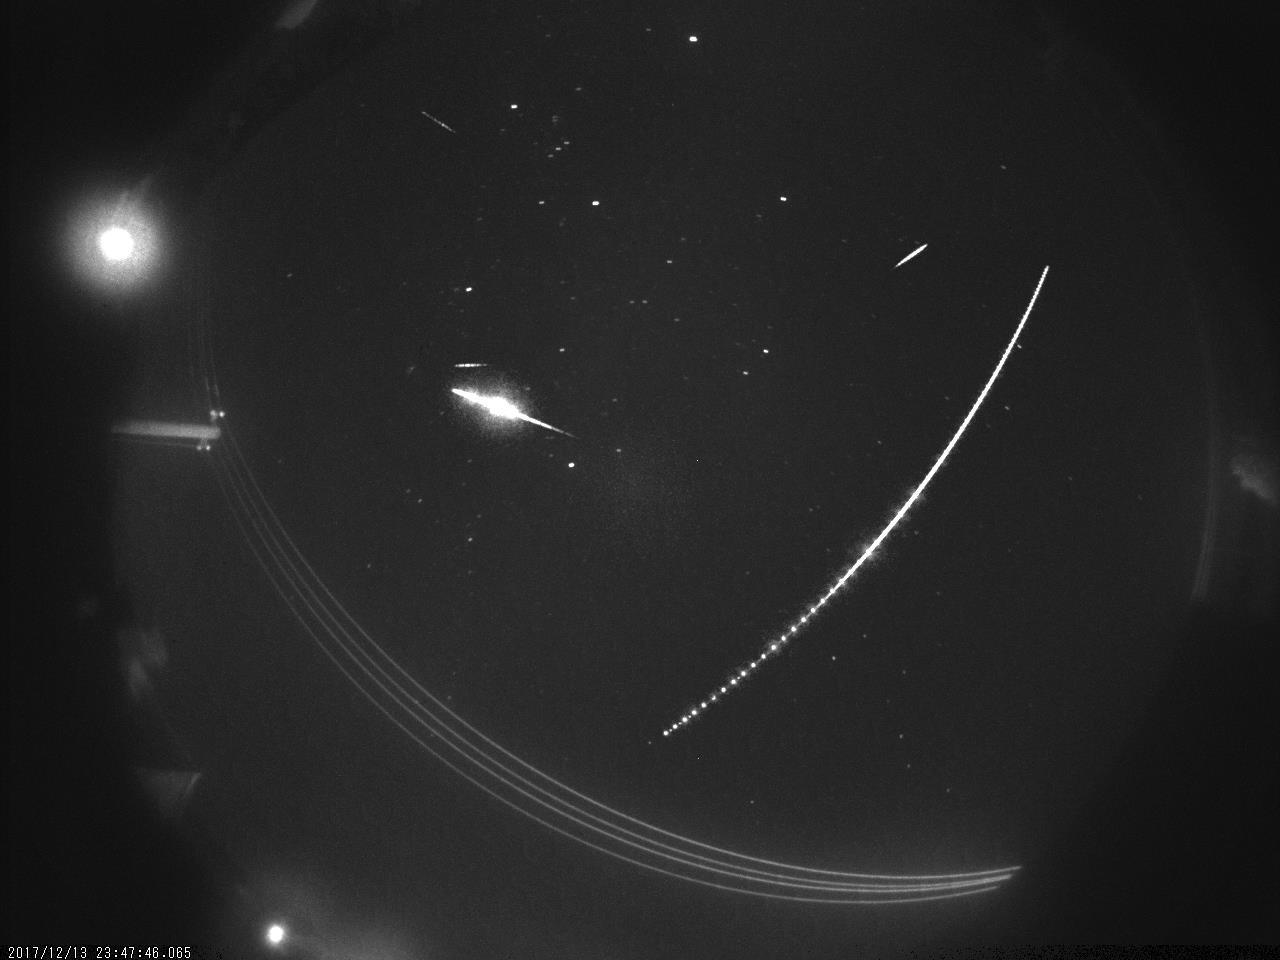Meteor: (432, 381, 578, 447), (415, 103, 464, 140), (892, 239, 931, 269), (445, 354, 494, 376)
